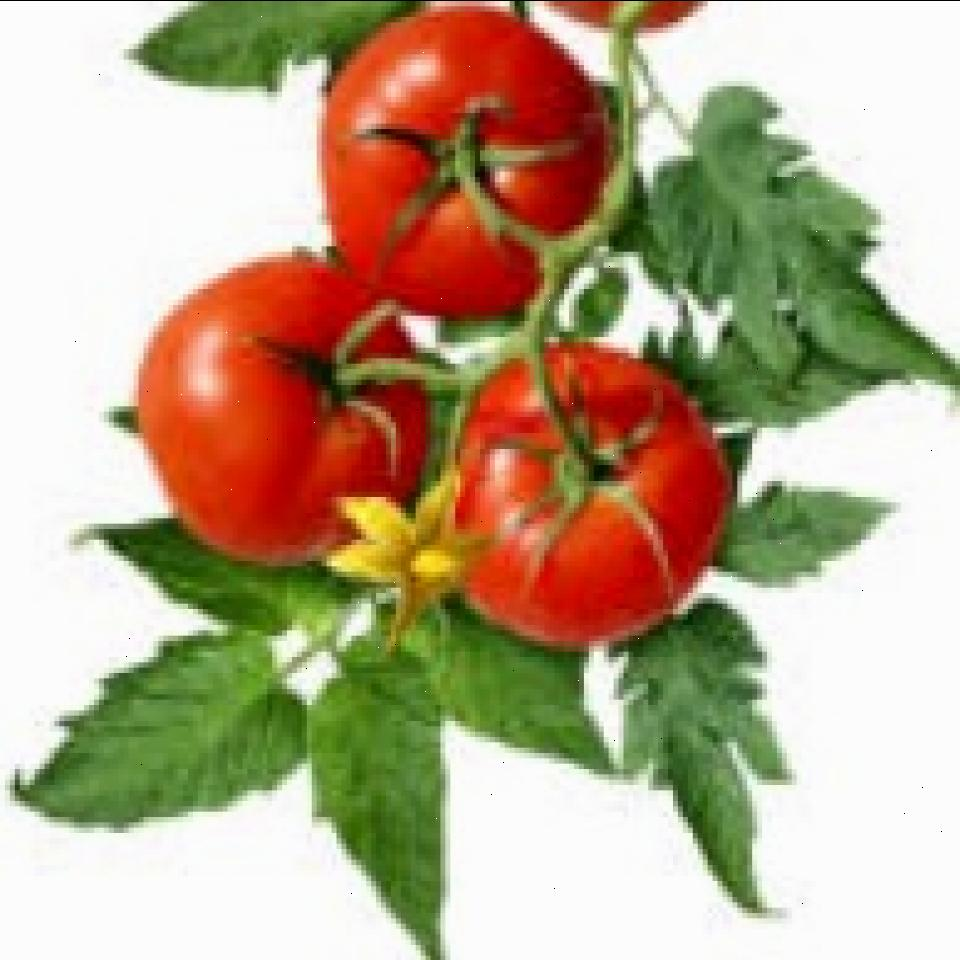Healthy: (322, 0, 608, 314), (446, 332, 722, 650), (128, 252, 418, 550)
